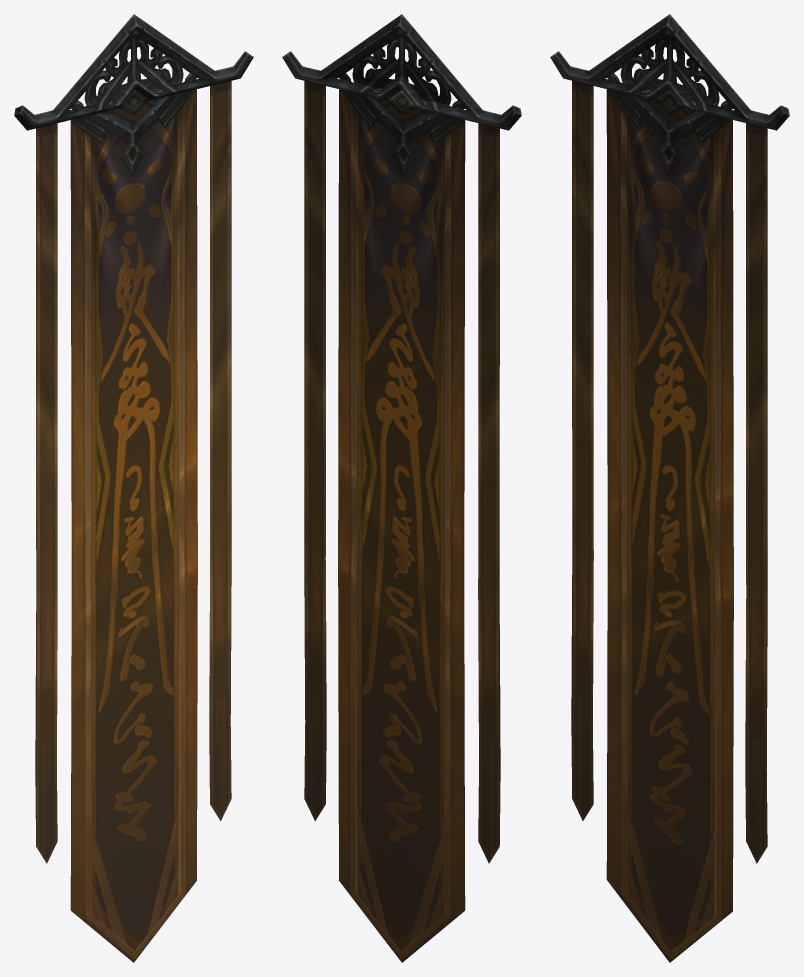
File: fb_suoyt_jz_01_b.FBX
3 renders of one model, left to right at view 1: azimuth 30°, elevation 25°; view 2: azimuth 150°, elevation 25°; view 3: azimuth 330°, elevation 25°, orthographic.
Parts seen in each view (by area): view 1: fb_suoyt_jz_01_b; view 2: fb_suoyt_jz_01_b; view 3: fb_suoyt_jz_01_b.
Boxes of the visible parts, bbox=[...] form: fb_suoyt_jz_01_b: bbox=[14, 14, 253, 962]; fb_suoyt_jz_01_b: bbox=[282, 14, 521, 962]; fb_suoyt_jz_01_b: bbox=[550, 14, 789, 962].
Bounding box in the file's own units: 209 × 789 × 8.87.
